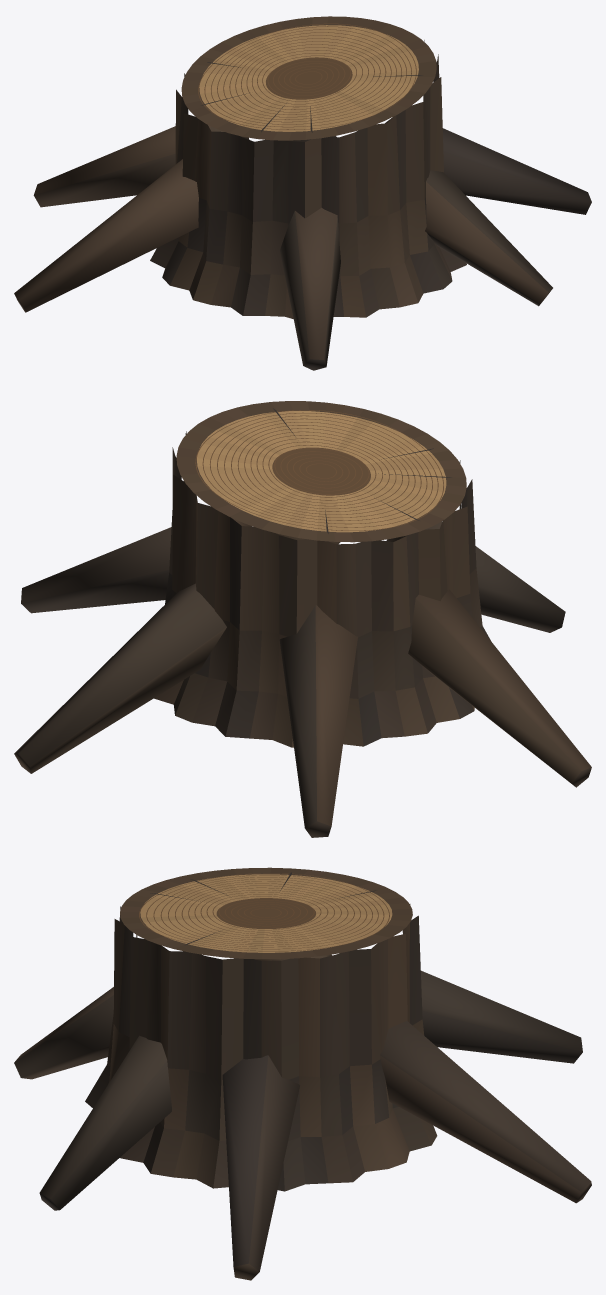
File: stump.glb
The picture shows the model from 3 angles, top to bottom: view 1: azimuth 30°, elevation 25°; view 2: azimuth 150°, elevation 25°; view 3: azimuth 270°, elevation 25°; orthographic projection. The views are drawn at different scales.
Visible parts, largest first — view 1: stump; view 2: stump; view 3: stump.
Part boxes in pixels (x1,y1,x2,y2): stump: [14, 16, 591, 370]; stump: [14, 401, 591, 837]; stump: [14, 867, 591, 1280].
Size of the model in its own units: 1.98 by 0.7355 by 1.62.
